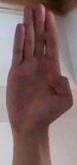B: (1, 1, 77, 133)
